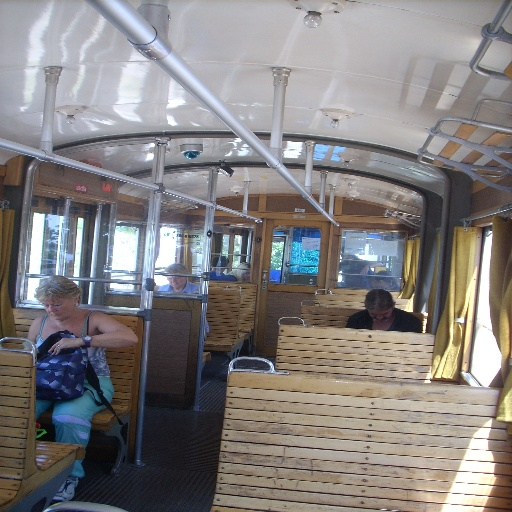hand: (47, 337, 80, 355)
